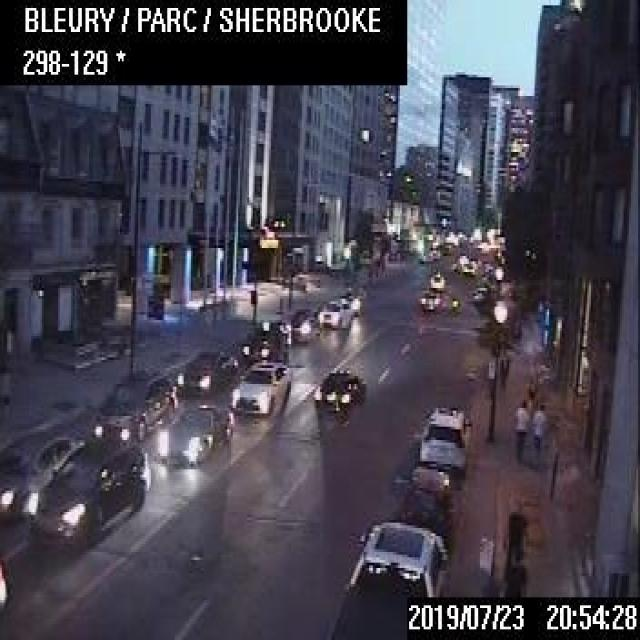pedestrian: (504, 496, 526, 573), (501, 547, 525, 596), (512, 398, 530, 458), (530, 402, 545, 461)
vehicle: (324, 517, 446, 637), (27, 437, 150, 549), (0, 430, 84, 518), (92, 366, 176, 438), (157, 403, 232, 465), (400, 463, 450, 542), (418, 404, 469, 474), (230, 357, 290, 414), (176, 348, 237, 396), (311, 365, 365, 410), (241, 319, 285, 360), (316, 295, 352, 329), (288, 305, 318, 339), (0, 547, 9, 616), (343, 287, 362, 314), (418, 288, 440, 311), (428, 268, 444, 289)
